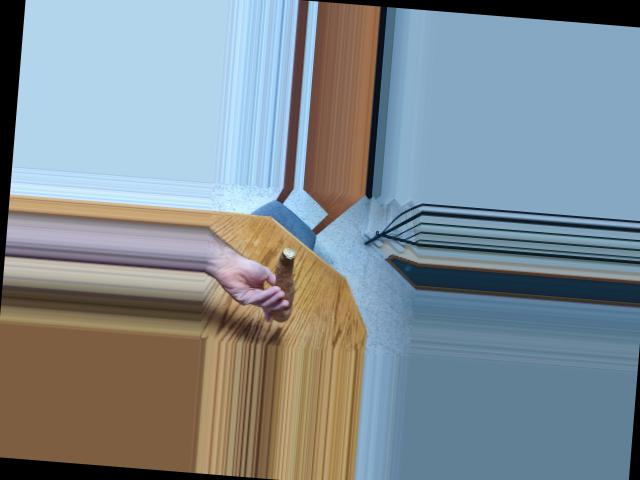sweet_potato: (266, 252, 303, 318)
